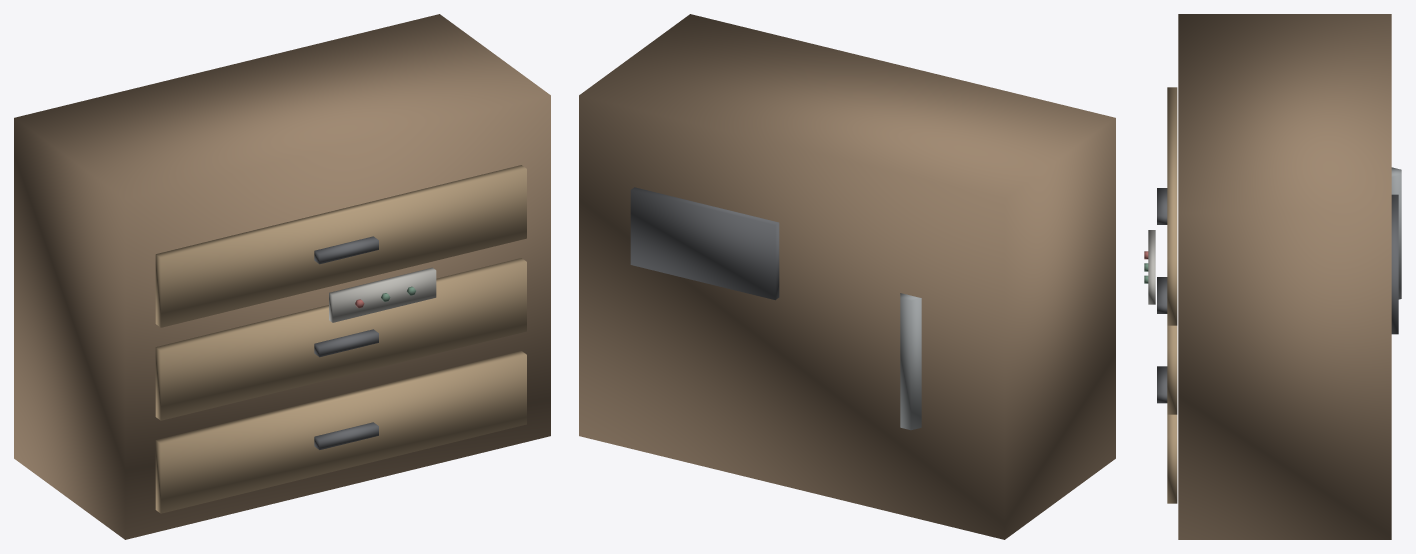
Rendered from residential_dresser__service.glb.
3 views of the same model, side by side, from view 1: azimuth 30°, elevation 25°; view 2: azimuth 150°, elevation 25°; view 3: azimuth 270°, elevation 25° (orthographic). The views are drawn at different scales.
Visible parts, largest first — view 1: world; view 2: world; view 3: world.
Boxes of the visible parts, x1,y1,x2,y2 form: world: (14, 14, 550, 539); world: (579, 14, 1115, 539); world: (1144, 14, 1401, 539).
Size of the model in its own units: 1.15 by 0.88 by 0.6284.
